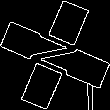N_SE: (24, 26, 86, 84)
